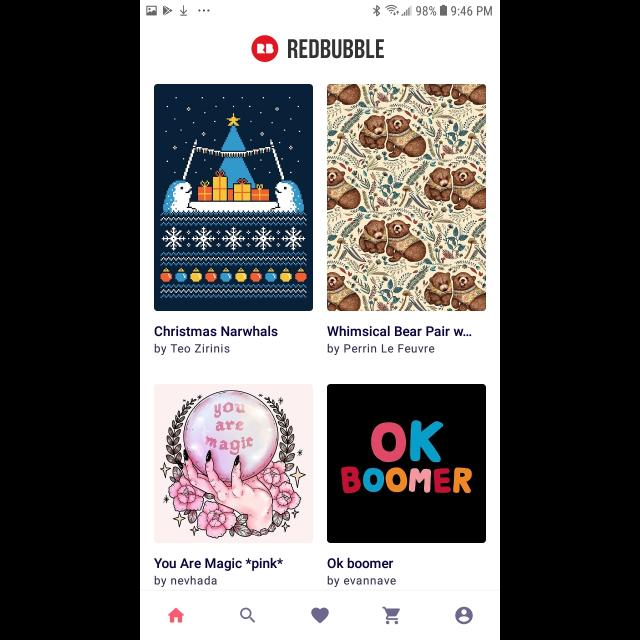icon: (382, 607, 400, 625), (455, 606, 473, 624), (311, 608, 329, 624), (169, 608, 185, 622), (240, 608, 256, 622)
image: (154, 85, 314, 312), (326, 85, 486, 312), (154, 384, 314, 544), (328, 384, 487, 544), (252, 36, 278, 62)
text: (327, 326, 471, 356), (154, 557, 282, 587), (154, 325, 278, 355), (328, 557, 396, 587), (288, 38, 384, 58)
uppertaskbar: (140, 1, 500, 17)
